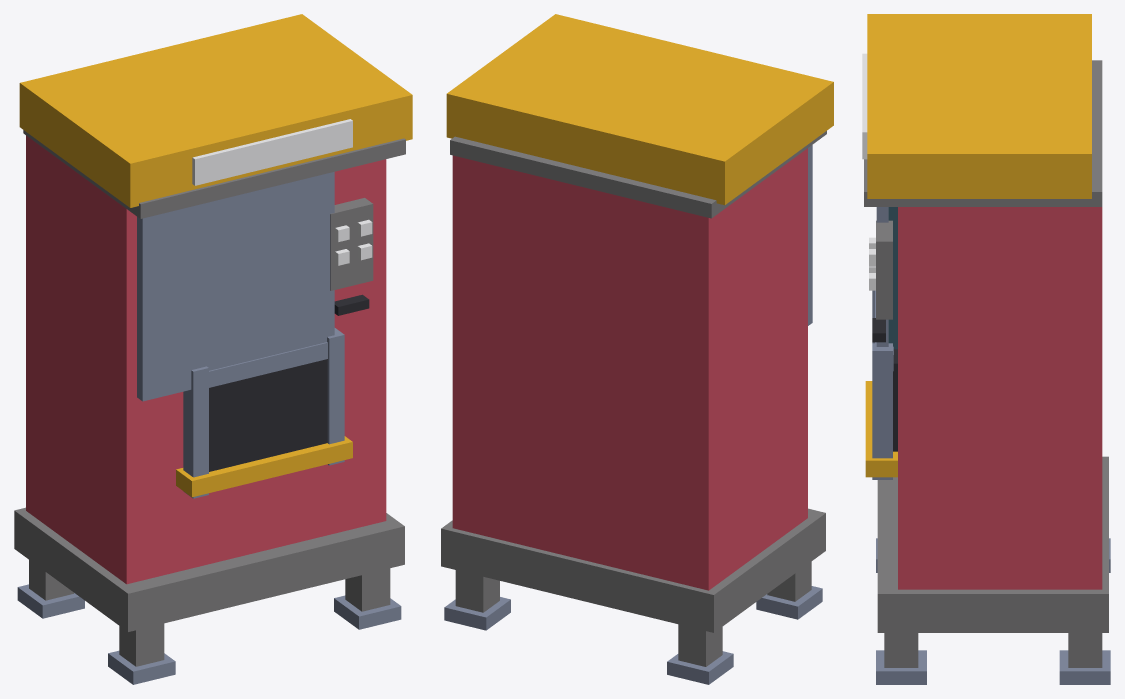
File: duckomat.glb
3 views of the same model, side by side, from view 1: azimuth 30°, elevation 25°; view 2: azimuth 150°, elevation 25°; view 3: azimuth 270°, elevation 25° (orthographic). The views are drawn at different scales.
Parts seen in each view (by area): view 1: duckomat; view 2: duckomat; view 3: duckomat.
Boxes of the visible parts, bbox=[...] form: duckomat: bbox=[14, 14, 412, 684]; duckomat: bbox=[441, 14, 833, 684]; duckomat: bbox=[862, 14, 1110, 684].
Bounding box in the file's own units: 1 × 1.78 × 0.75.
